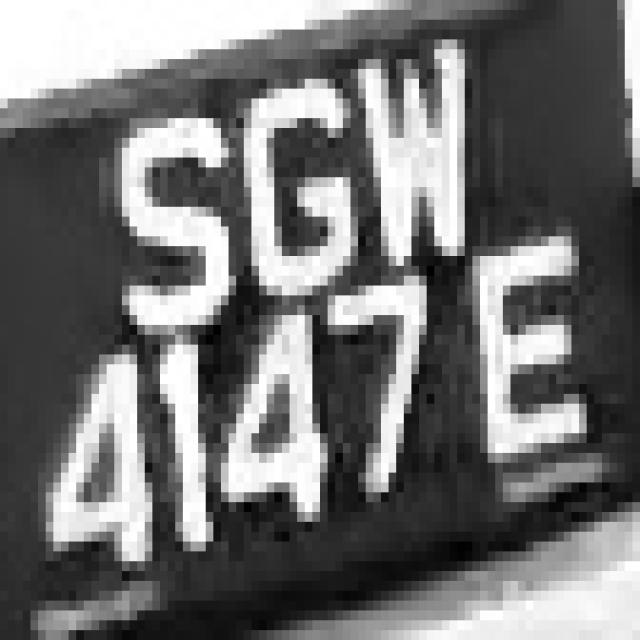1: (144, 315, 228, 581)
4: (23, 344, 160, 590), (214, 295, 336, 532)
7: (320, 246, 434, 542)
E: (465, 216, 594, 522)
G: (213, 69, 358, 295)
S: (84, 108, 228, 354)
W: (328, 29, 488, 276)
